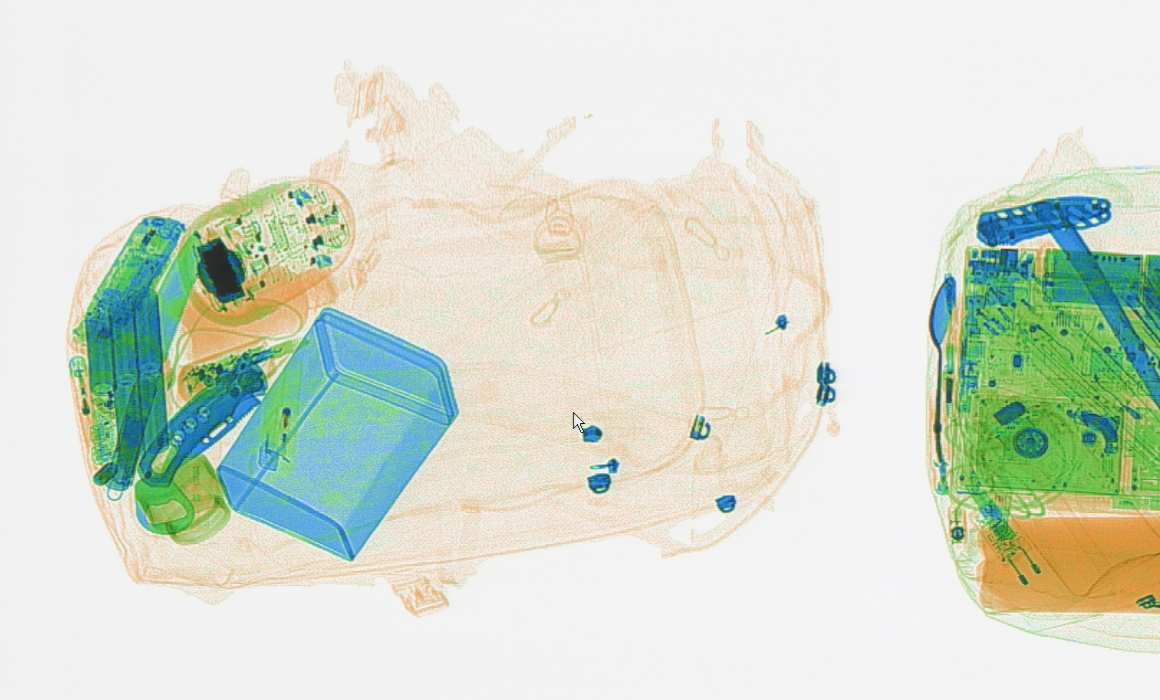knife: (104, 228, 203, 499), (137, 352, 266, 487), (977, 195, 1111, 245)
lighter: (258, 340, 302, 471), (70, 355, 101, 450)
powerbank: (83, 285, 174, 468)
